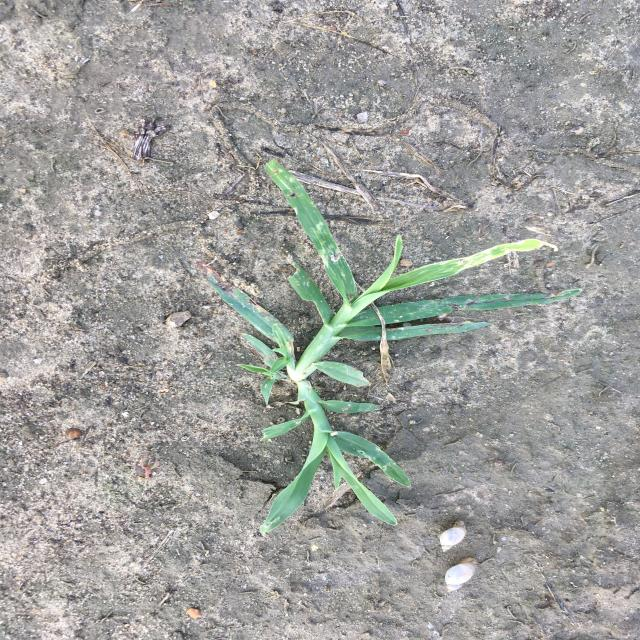Goosegrass: (198, 158, 584, 538)
